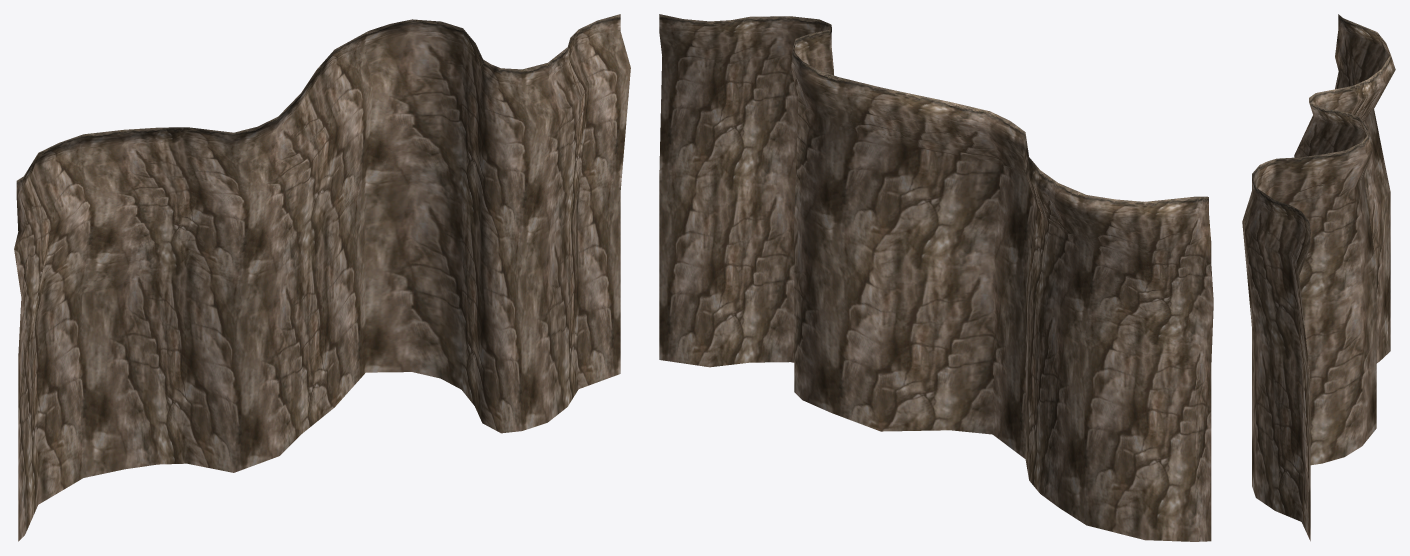
The model's file is OVERHILL_A_01_OBJECT51.fbx.
3 renders of one model, left to right at view 1: azimuth 30°, elevation 25°; view 2: azimuth 150°, elevation 25°; view 3: azimuth 270°, elevation 25°, orthographic. The views are drawn at different scales.
Parts seen in each view (by area): view 1: OVERHILL_A_01_OBJECT51; view 2: OVERHILL_A_01_OBJECT51; view 3: OVERHILL_A_01_OBJECT51.
Part boxes in pixels (bbox=[...]): OVERHILL_A_01_OBJECT51: bbox=[14, 14, 630, 541]; OVERHILL_A_01_OBJECT51: bbox=[659, 14, 1213, 541]; OVERHILL_A_01_OBJECT51: bbox=[1242, 14, 1395, 541].
Size of the model in its own units: 292050 by 193140 by 75724.
2 materials, 2 textured.
